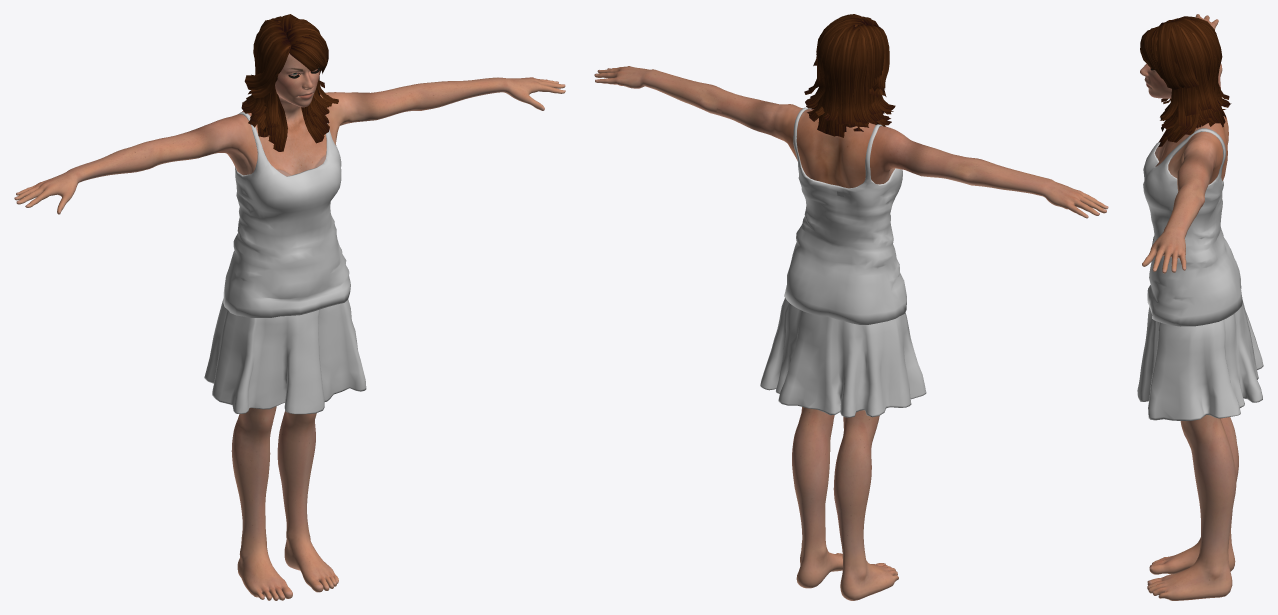
The picture shows the model from 3 angles, left to right: view 1: azimuth 30°, elevation 25°; view 2: azimuth 150°, elevation 25°; view 3: azimuth 270°, elevation 25°; orthographic projection.
Visible parts, largest first — view 1: Body, Tops, Bottoms, Hair; view 2: Body, Tops, Bottoms, Hair; view 3: Body, Bottoms, Tops, Hair.
Part boxes in pixels (bbox=[...]): Body: bbox=[14, 36, 565, 600]; Tops: bbox=[223, 112, 350, 317]; Bottoms: bbox=[204, 299, 366, 414]; Hair: bbox=[241, 14, 338, 151]; Body: bbox=[594, 66, 1108, 600]; Tops: bbox=[784, 107, 906, 324]; Bottoms: bbox=[760, 298, 926, 417]; Hair: bbox=[804, 14, 895, 137]; Body: bbox=[1140, 14, 1238, 600]; Bottoms: bbox=[1137, 301, 1263, 420]; Tops: bbox=[1143, 128, 1242, 326]; Hair: bbox=[1140, 16, 1231, 146].
Size of the model in its own units: 178 by 182 by 36.88.
